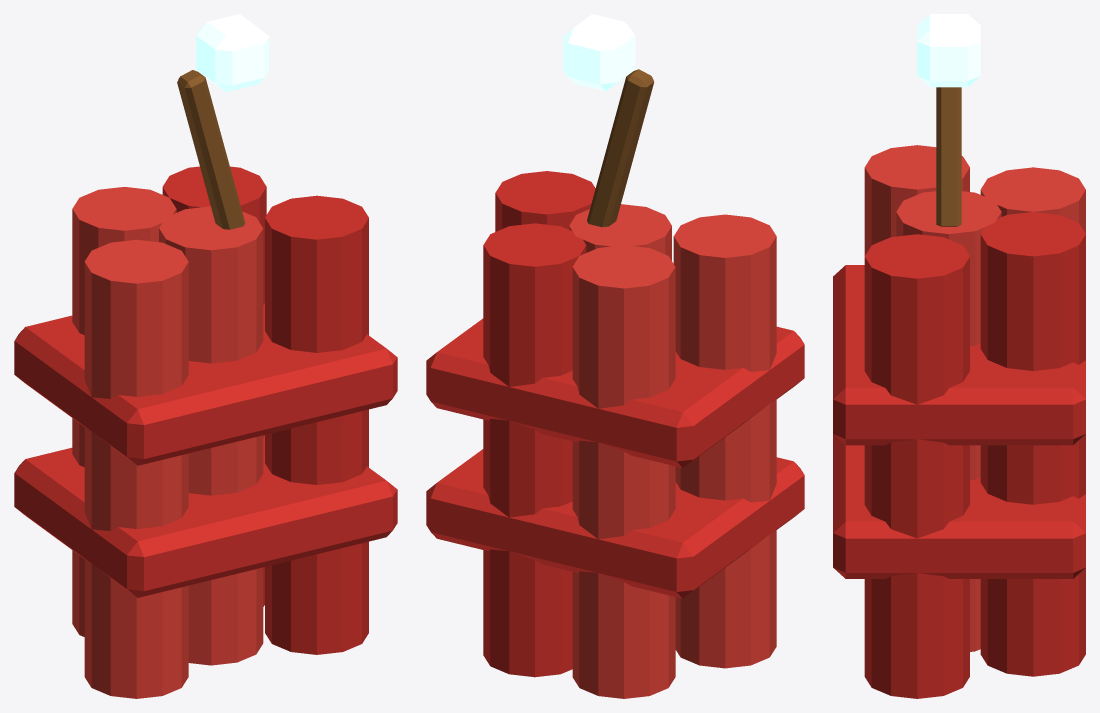
The model's file is tool_dynamite.fbx.
3 views of the same model, side by side, from view 1: azimuth 30°, elevation 25°; view 2: azimuth 150°, elevation 25°; view 3: azimuth 270°, elevation 25° (orthographic). The views are drawn at different scales.
Parts seen in each view (by area): view 1: Root; view 2: Root; view 3: Root.
Part boxes in pixels (<box>): Root: <box>14,14,397,698</box>; Root: <box>426,14,804,698</box>; Root: <box>833,14,1085,698</box>.
Size of the model in its own units: 1.5 by 3.25 by 1.2.
